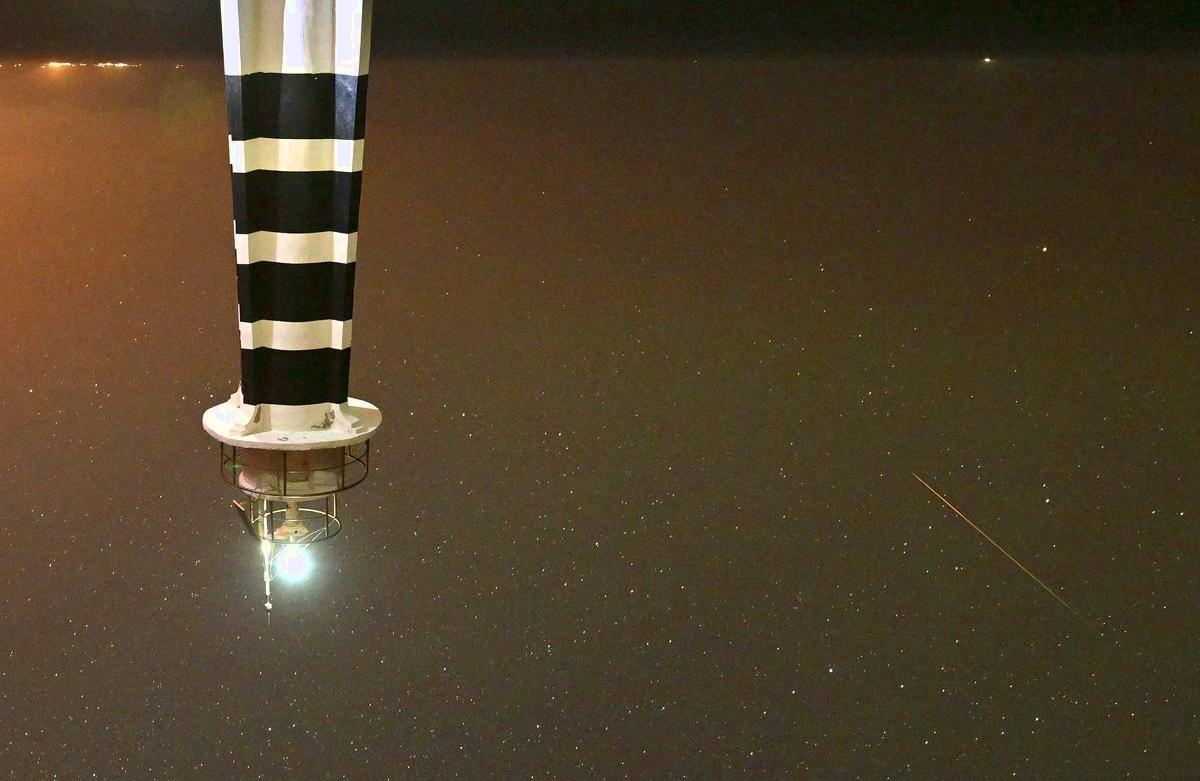meteorite: (888, 457, 1079, 620)
